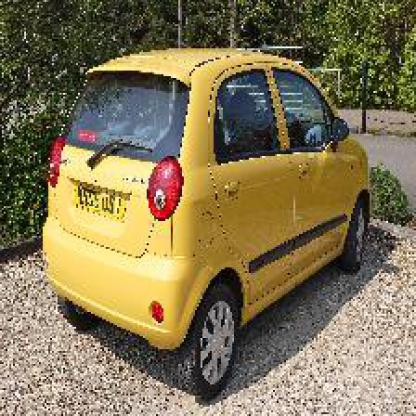not_emergency: (34, 44, 396, 366)
